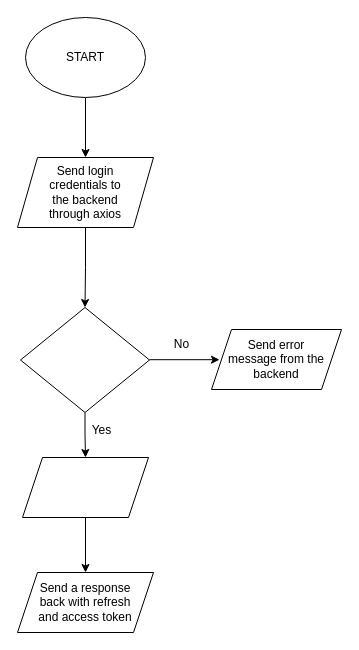
The diagram is 359 pixels wide and 650 high, and some of its shapes have lost their labels. The centre of each missing label's shape, as x and y in pixels:
"Are login credentials valid?" belongs at point (85, 359).
"Create a refresh and access token using jwt" belongs at point (85, 487).
